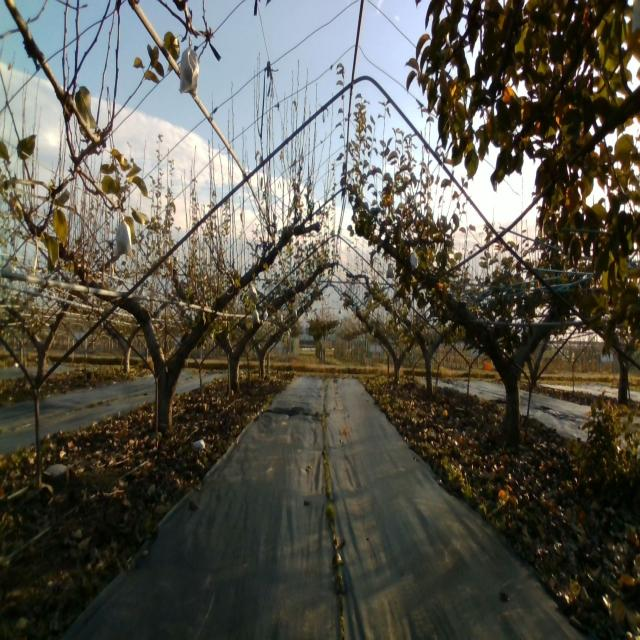pearbags: (178, 35, 200, 97), (113, 211, 134, 258)
